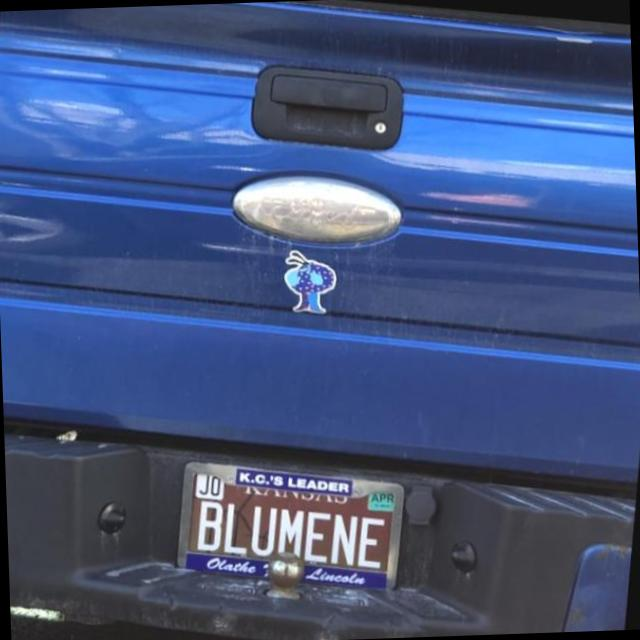LicensePlate: (173, 460, 404, 592)
